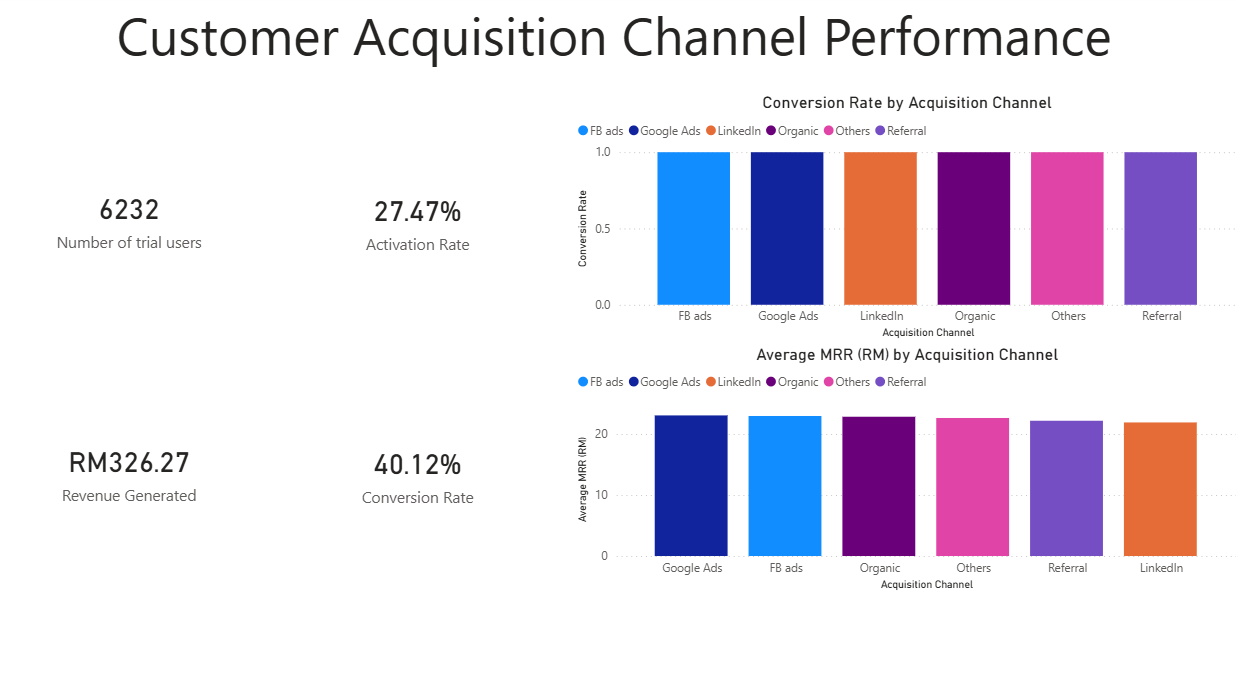

This screenshot's page, from the dashboard's own definition file:
{"tool":"powerbi","page":{"name":"Page 1","canvas":[1280,720],"ordinal":0},"visuals":[{"type":"textbox","box":[9.3,0,1270.7,86.4],"z":0},{"type":"columnChart","title":"Average MRR (RM) by Acquisition Channel","fields":{"Category":["dedup_table.source_std"],"Y":["Avg(dedup_table.mrr_std)"],"Series":["source_metric.source_std"]},"box":[593.7,359.3,686.3,257.5],"z":1000},{"type":"columnChart","title":"Conversion Rate by Acquisition Channel","fields":{"Series":["source_metric.source_std"],"Y":["CountNonNull(source_metric.activated_to_converted_pct)"],"Category":["source_metric.source_std"]},"box":[593.7,101.8,686.3,257.5],"z":2000},{"type":"card","fields":{"Values":["Avg(source_metric.activated_to_converted_pct)"]},"box":[277.5,362.5,315.8,257.7],"z":3000},{"type":"card","fields":{"Values":["Avg(source_metric.trial_to_activated_pct)"]},"box":[277.5,101.9,315.8,260.5],"z":4000},{"type":"card","fields":{"Values":["Sum(source_metric.trial_users)"]},"box":[0,101.8,277.6,257.5],"z":5000},{"type":"card","fields":{"Values":["Sum(source_metric.avg_mrr)"]},"box":[0,359.3,277.6,260.6],"z":6000}]}

Visuals, with their boxes in screenshot pixels (x1, y1, x2, y2), scaled from the page's 1280x720 canvas onto the 1236x684 screenshot:
textbox: 9,0,1235,82
"Average MRR (RM) by Acquisition Channel" columnChart: 573,341,1235,586
"Conversion Rate by Acquisition Channel" columnChart: 573,97,1235,341
card - Avg(source_metric.activated_to_converted_pct): 268,344,573,589
card - Avg(source_metric.trial_to_activated_pct): 268,97,573,344
card - Sum(source_metric.trial_users): 0,97,268,341
card - Sum(source_metric.avg_mrr): 0,341,268,589
